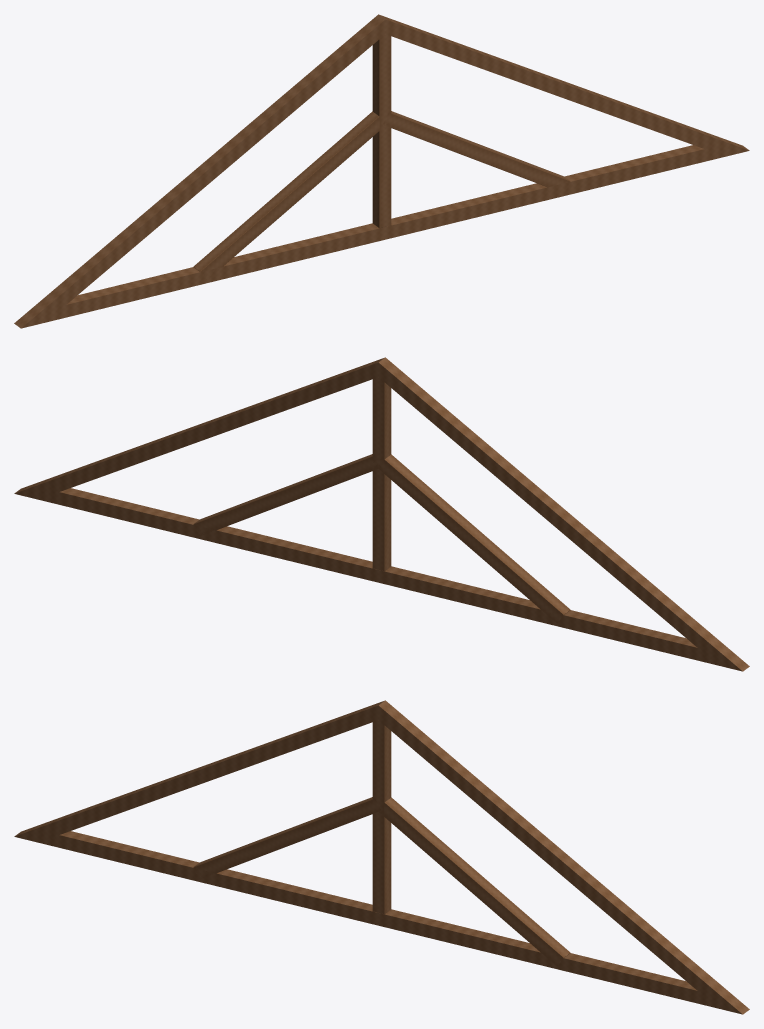
File: MRP_Truss_6m.fbx
3 views of the same model, one above another, from view 1: azimuth 30°, elevation 25°; view 2: azimuth 150°, elevation 25°; view 3: azimuth 330°, elevation 25° (orthographic).
Visible parts, largest first — view 1: Body; view 2: Body; view 3: Body.
Part boxes in pixels (x1,y1,x2,y2): Body: (14, 14, 749, 328); Body: (14, 357, 749, 671); Body: (14, 700, 749, 1014).
Size of the model in its own units: 6 by 1.73 by 0.1.
